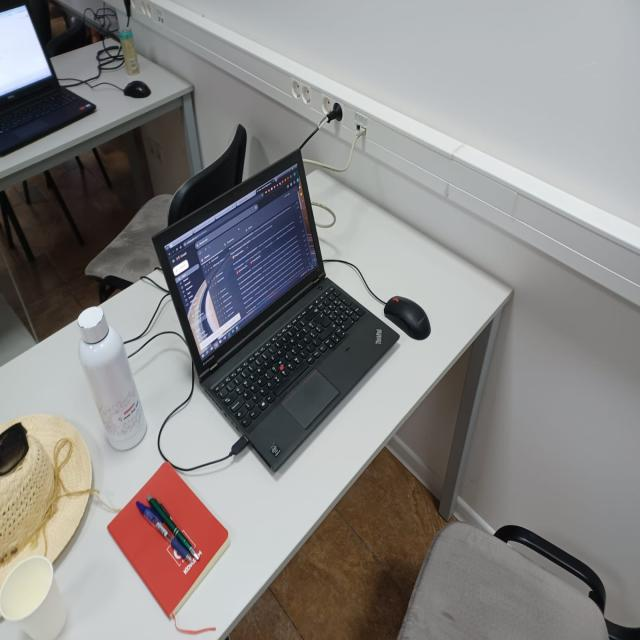Laptops_bbox: (125, 137, 458, 493)
